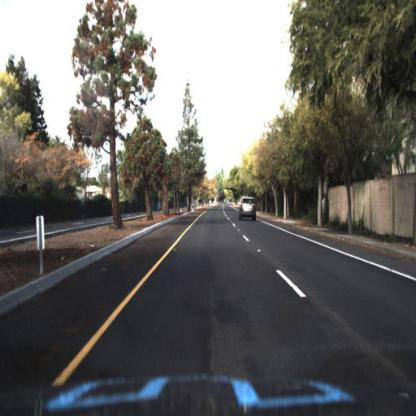car: (238, 195, 258, 223)
